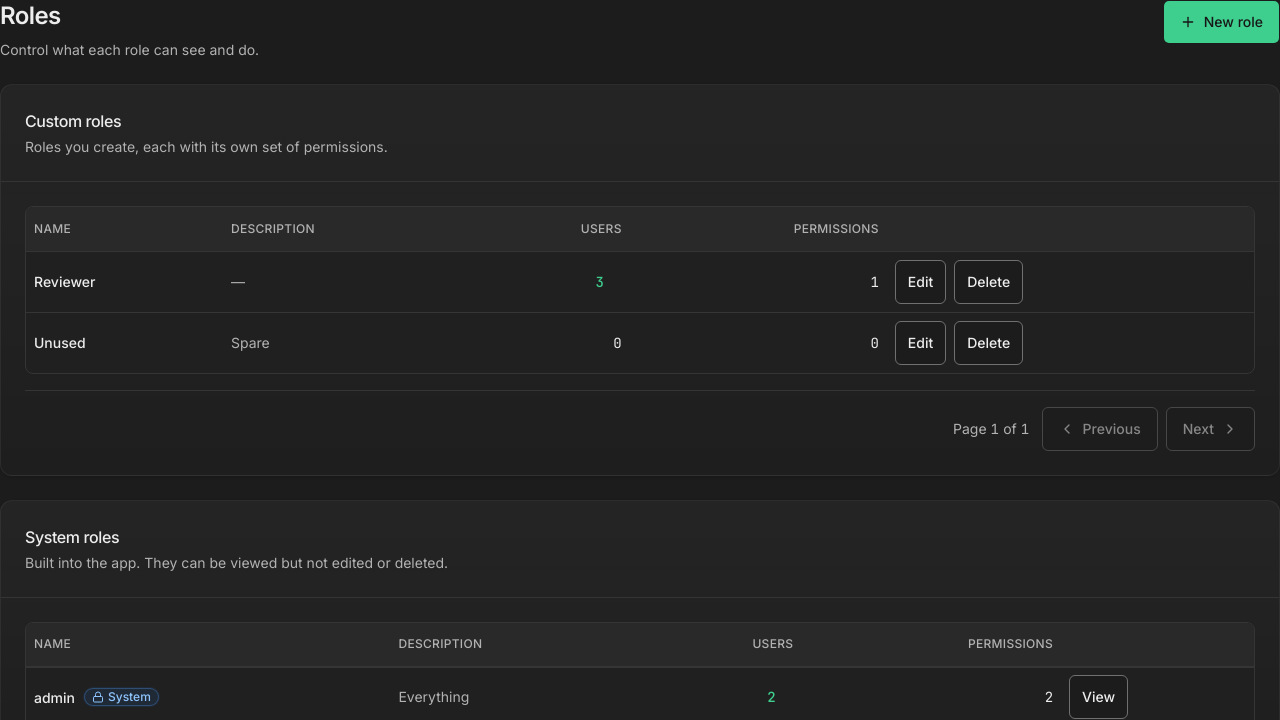
Scenario: Roles tab › Escape closes the dialog and gives focus back to the Delete button that opened it
This screenshot has width=1280, height=720.
Click the button "Delete" in the row of "Unused": (989, 342) [954,320,1023,364]
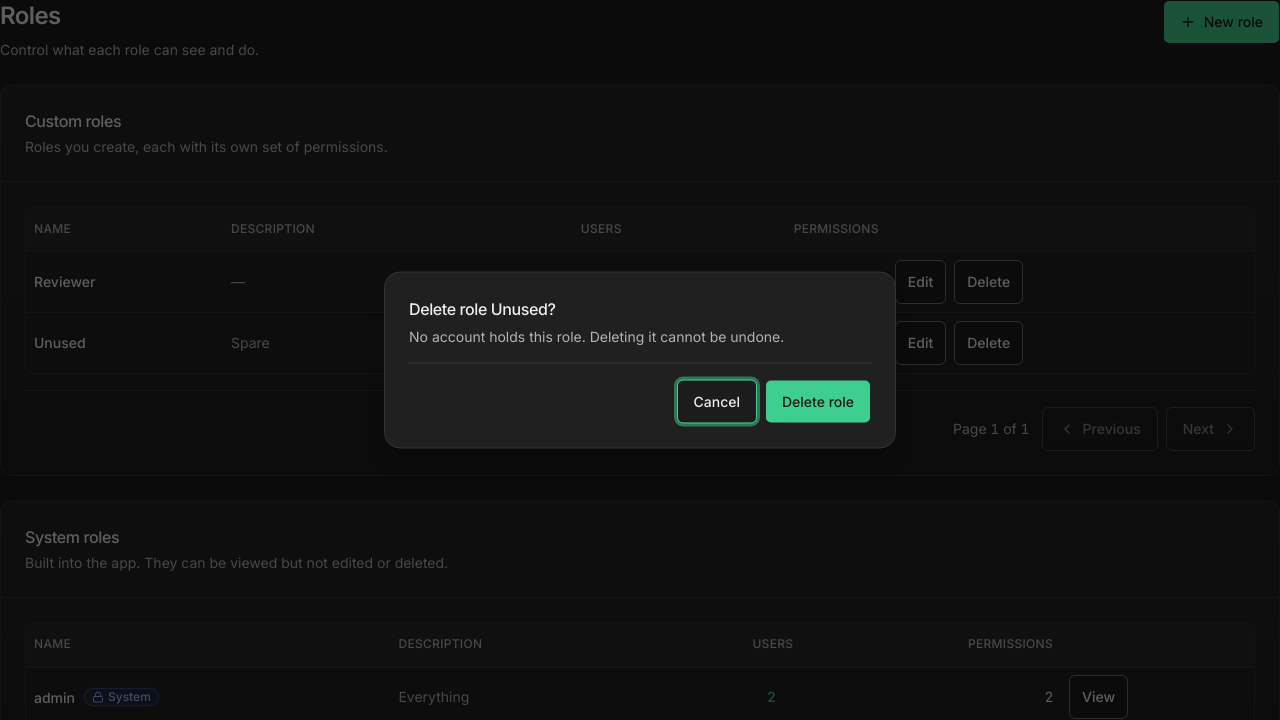
Now the dialog is shown, box [384,272,896,448]
Press Escape
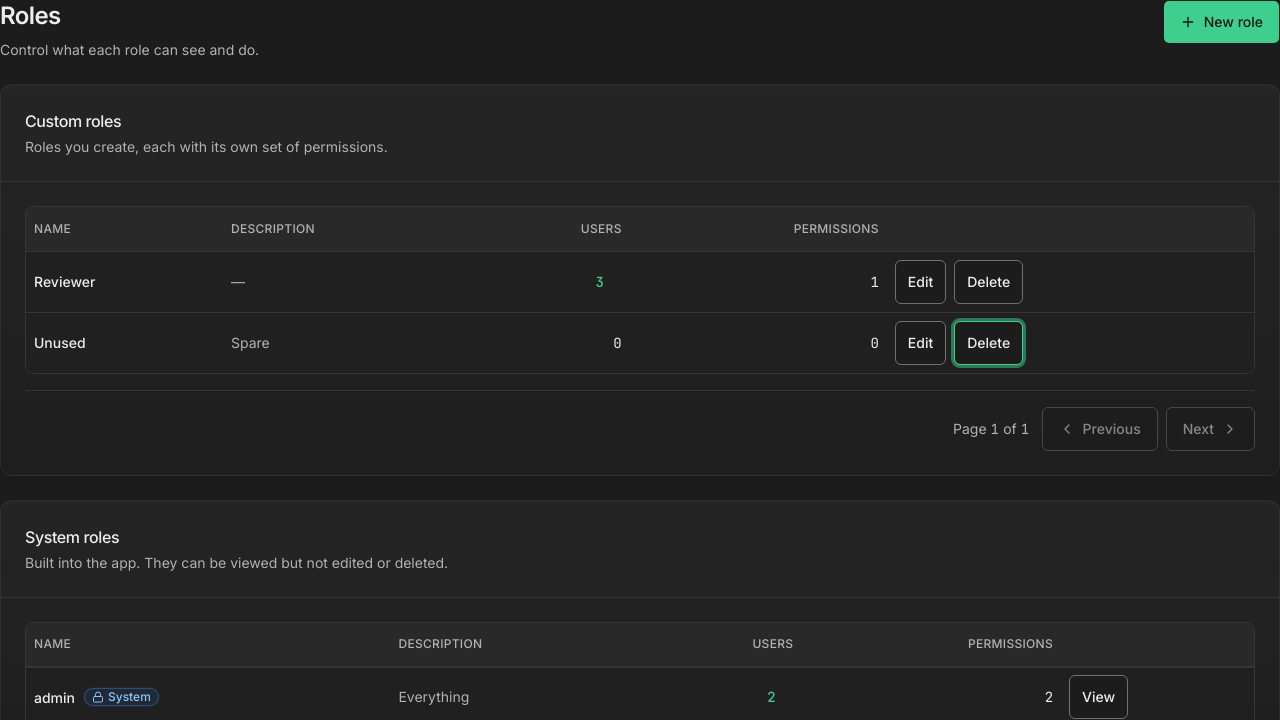
Now the dialog is gone
